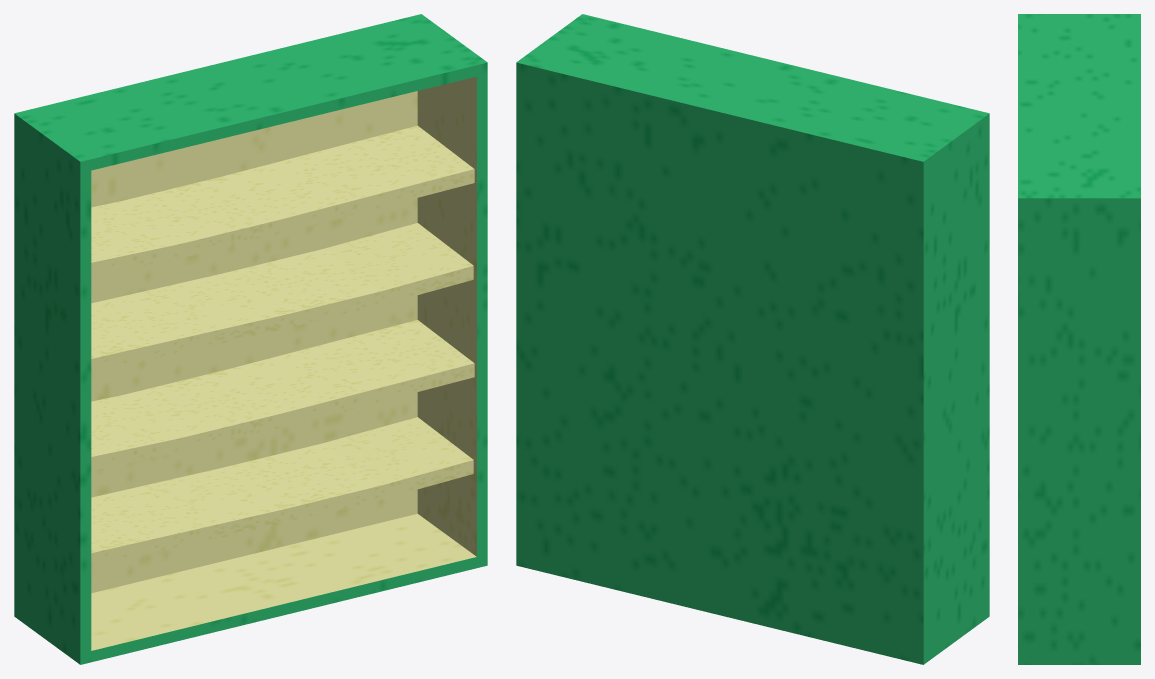
The model's file is library_bookshelf_wide_empty_green.fbx.
The picture shows the model from 3 angles, left to right: view 1: azimuth 30°, elevation 25°; view 2: azimuth 150°, elevation 25°; view 3: azimuth 270°, elevation 25°; orthographic projection. The views are drawn at different scales.
Visible parts, largest first — view 1: Cube.022, Cube.023; view 2: Cube.022; view 3: Cube.022.
Part boxes in pixels (x1=…): Cube.022: x1=14, y1=14, x2=487, y2=664; Cube.023: x1=91, y1=125, x2=474, y2=566; Cube.022: x1=516, y1=14, x2=989, y2=664; Cube.022: x1=1018, y1=14, x2=1140, y2=664.
Bounding box in the file's own units: 213 × 251 × 59.89.
